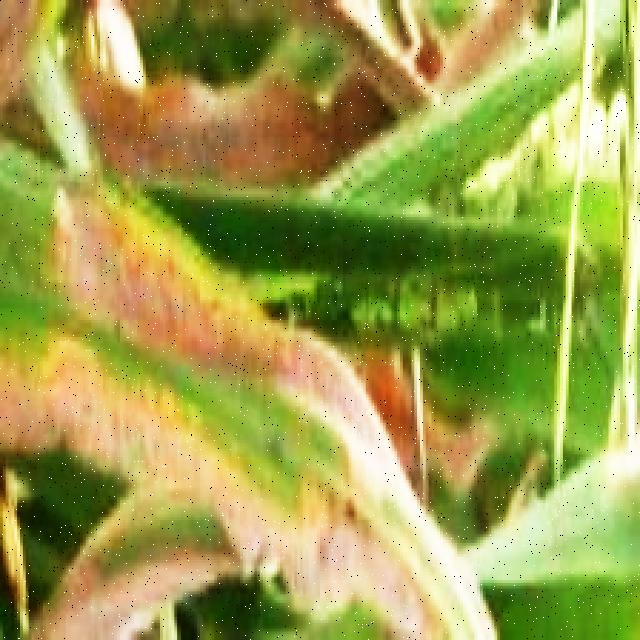unhealth: (0, 0, 534, 640)
